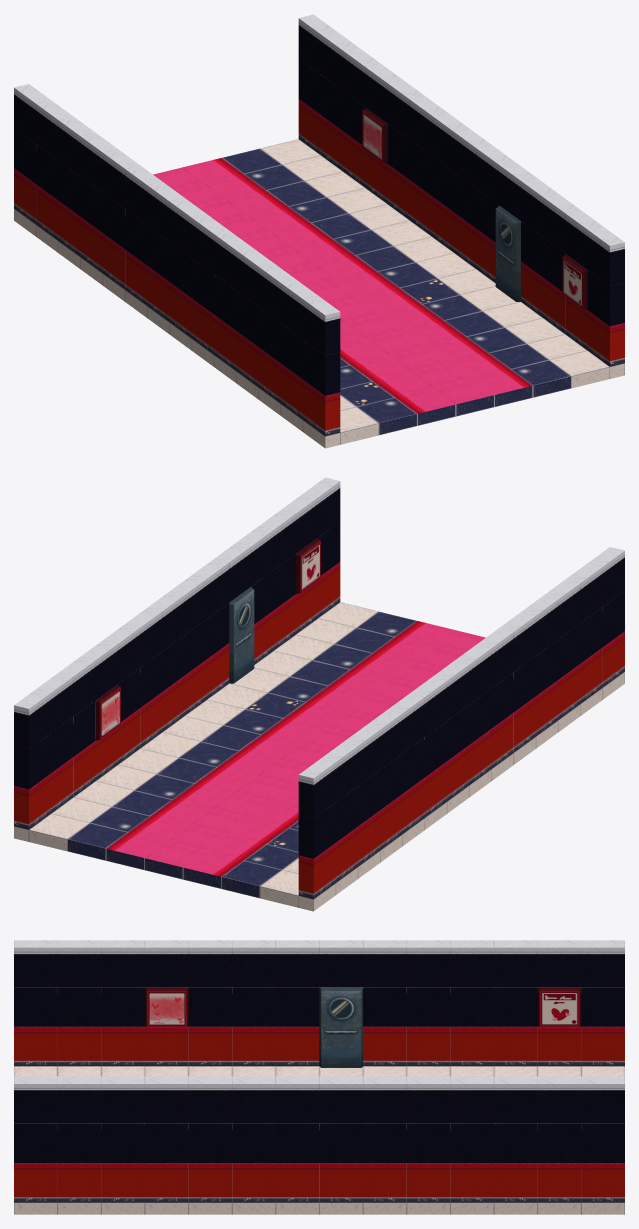
Rendered from HallCinema.fbx.
3 views of the same model, one above another, from view 1: azimuth 30°, elevation 25°; view 2: azimuth 150°, elevation 25°; view 3: azimuth 270°, elevation 25° (orthographic).
Visible parts, largest first — view 1: Hall; view 2: Hall; view 3: Hall.
Part boxes in pixels (box(x1,y1,x2,y2)): Hall: box(14, 14, 624, 448); Hall: box(14, 477, 624, 911); Hall: box(14, 940, 624, 1214).
Bounding box in the file's own units: 778 × 330 × 1400.
